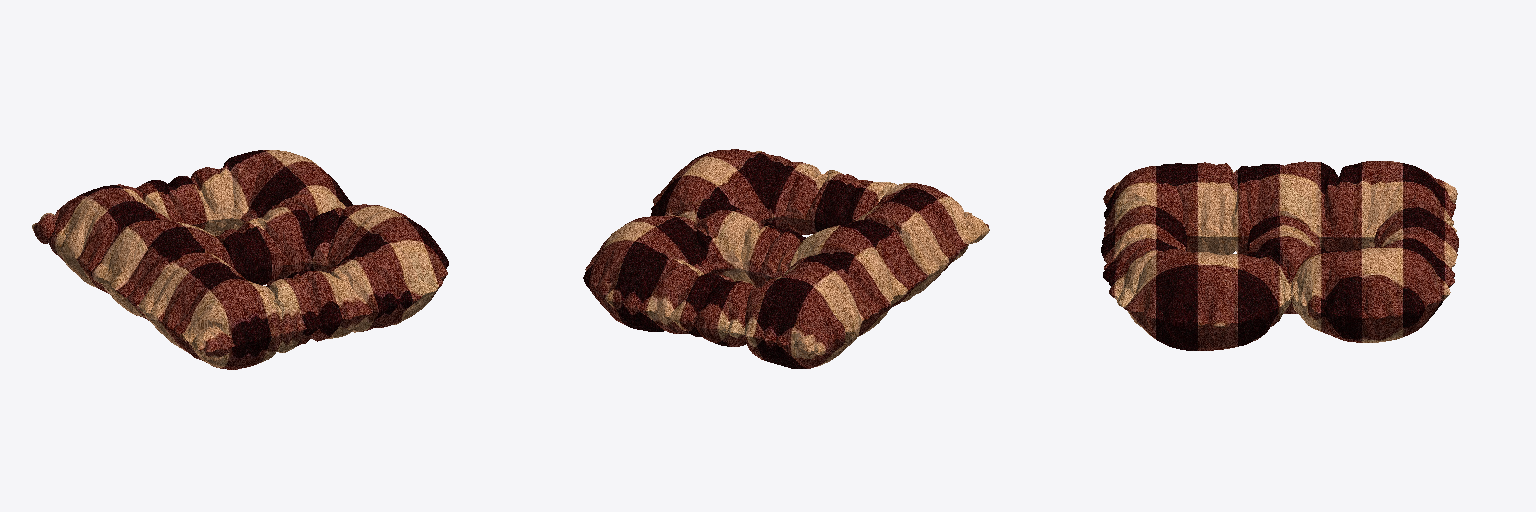
The picture shows the model from 3 angles: view 1: azimuth 30°, elevation 25°; view 2: azimuth 150°, elevation 25°; view 3: azimuth 270°, elevation 25°; orthographic projection.
Parts seen in each view (by area): view 1: Pattern2D_2250; view 2: Pattern2D_2250; view 3: Pattern2D_2250.
Part boxes in pixels (x1,y1,x2,y2): Pattern2D_2250: (32,150,448,369); Pattern2D_2250: (583,149,989,368); Pattern2D_2250: (1101,161,1458,350).
Bounding box in the file's own units: 50.08 × 16.14 × 54.42.
1 materials, 1 textured.